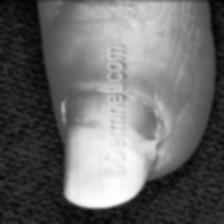Toxin: (60, 98, 104, 206)
